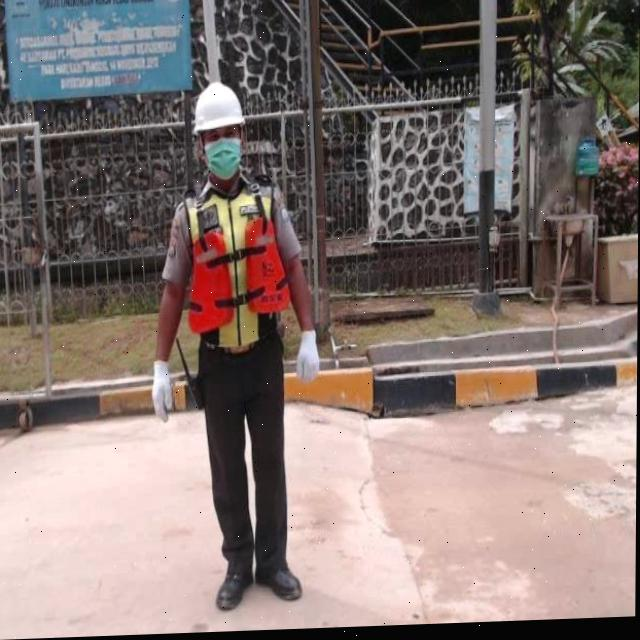Gloves: (151, 360, 174, 424), (295, 331, 320, 386)
Helmet: (191, 81, 245, 135)
Safety-Boot: (255, 565, 302, 602), (215, 568, 254, 612)
Safety-Vest: (180, 181, 290, 351)
